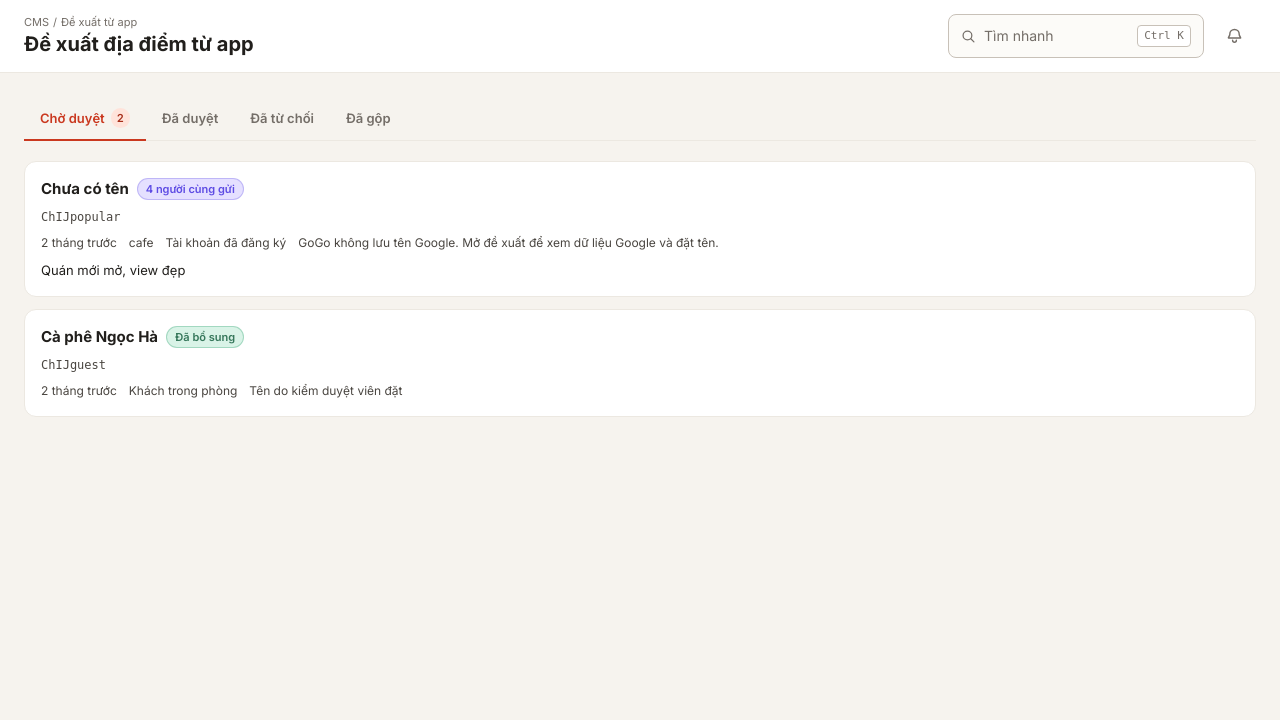
Test: SubmissionQueueScreen › opens the review drawer on the row, on its own URL
Click the text "ChIJpopular": coordinates (81, 217) [41,208,120,226]
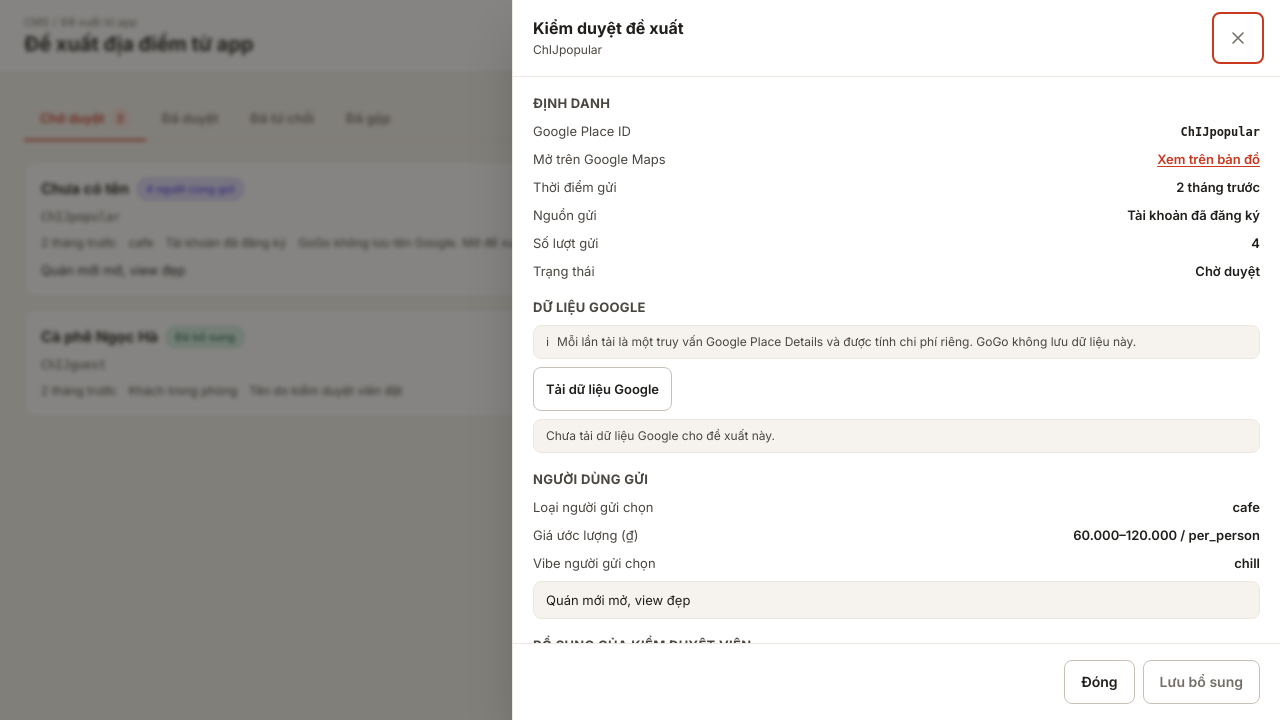
Now the dialog "Kiểm duyệt đề xuất" is shown, box [512,0,1279,719]
